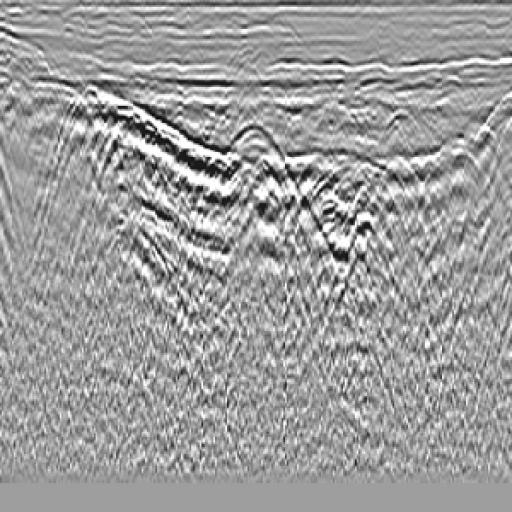metalic: (213, 119, 327, 288)
